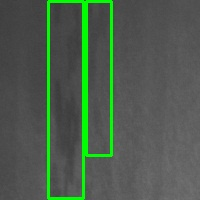inclusion: (48, 1, 83, 198), (86, 1, 111, 155)
